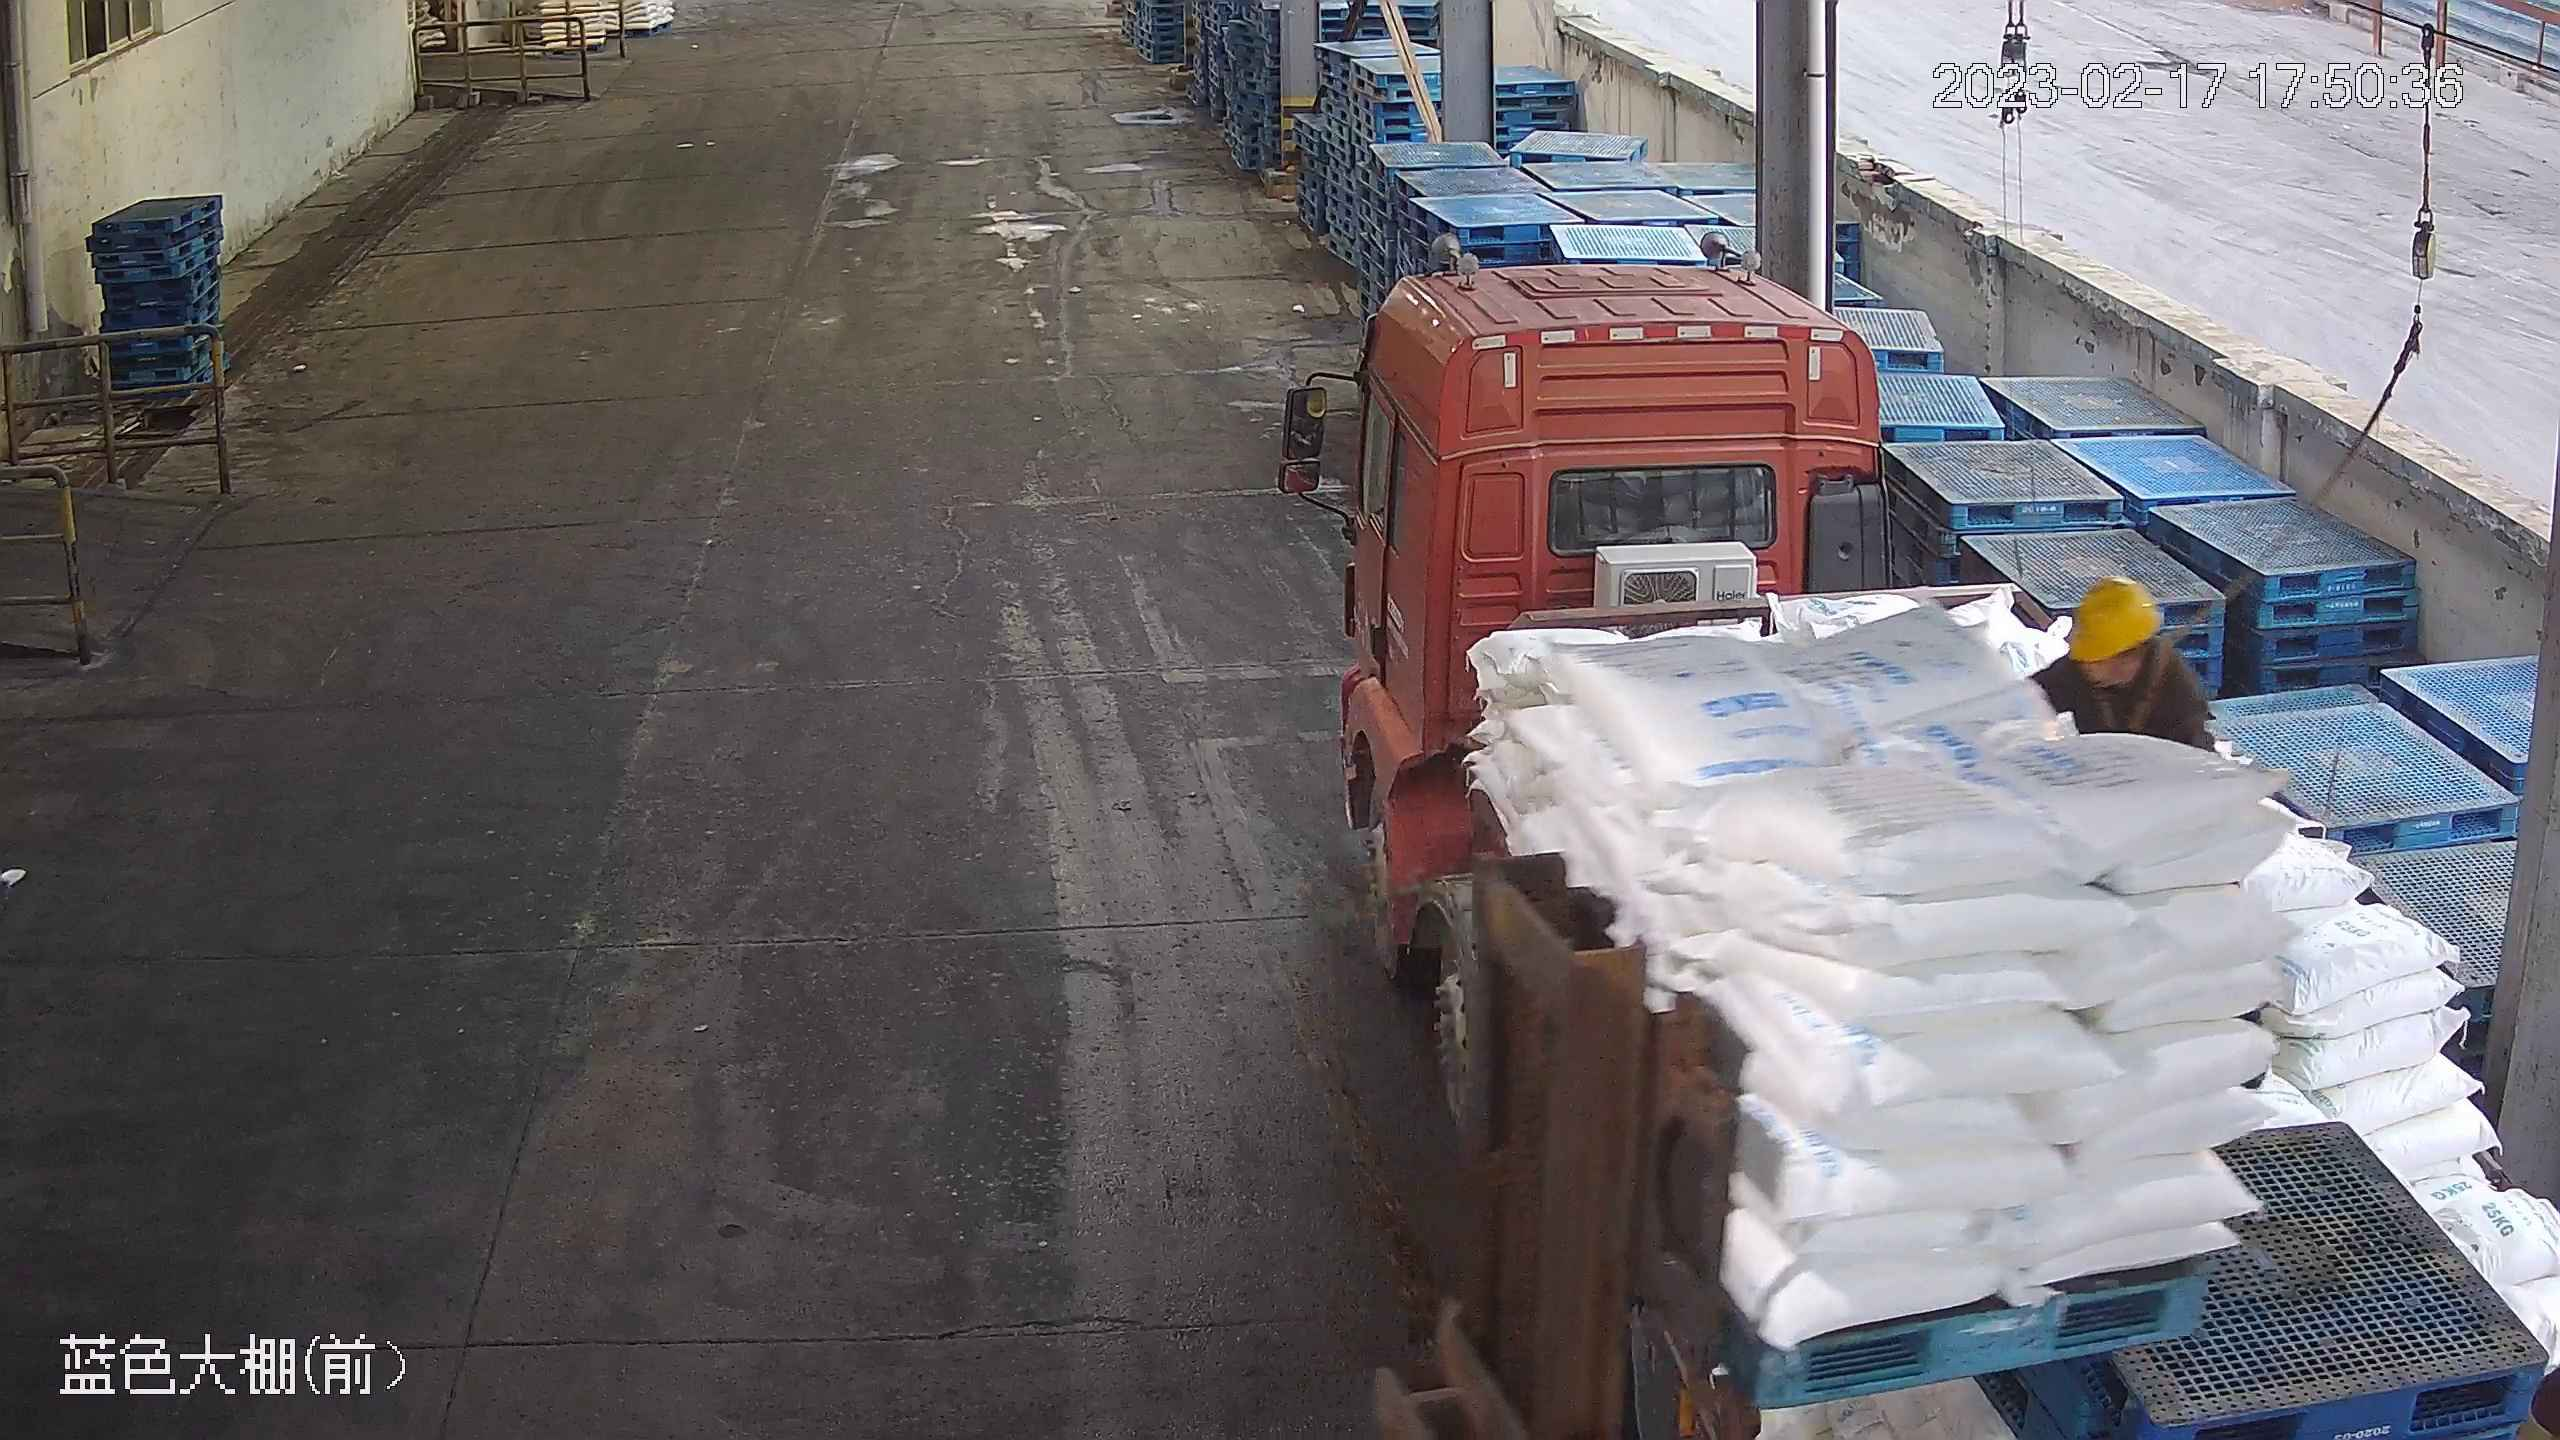belt: (2079, 625, 2199, 736)
head: (2045, 575, 2207, 706)
helmet: (2064, 573, 2159, 664)
truck: (1278, 227, 2560, 1440)
